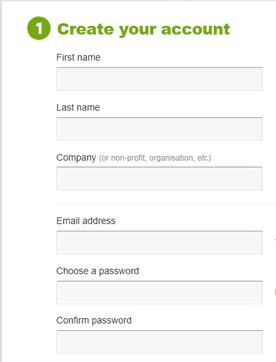field: (53, 64, 262, 93), (53, 277, 264, 305), (52, 164, 263, 191), (53, 115, 263, 142), (54, 229, 263, 256), (54, 328, 263, 355)
field_with_label: (50, 52, 266, 95), (52, 217, 266, 258), (51, 316, 265, 357), (49, 267, 266, 307), (51, 104, 266, 144), (50, 154, 267, 192)
